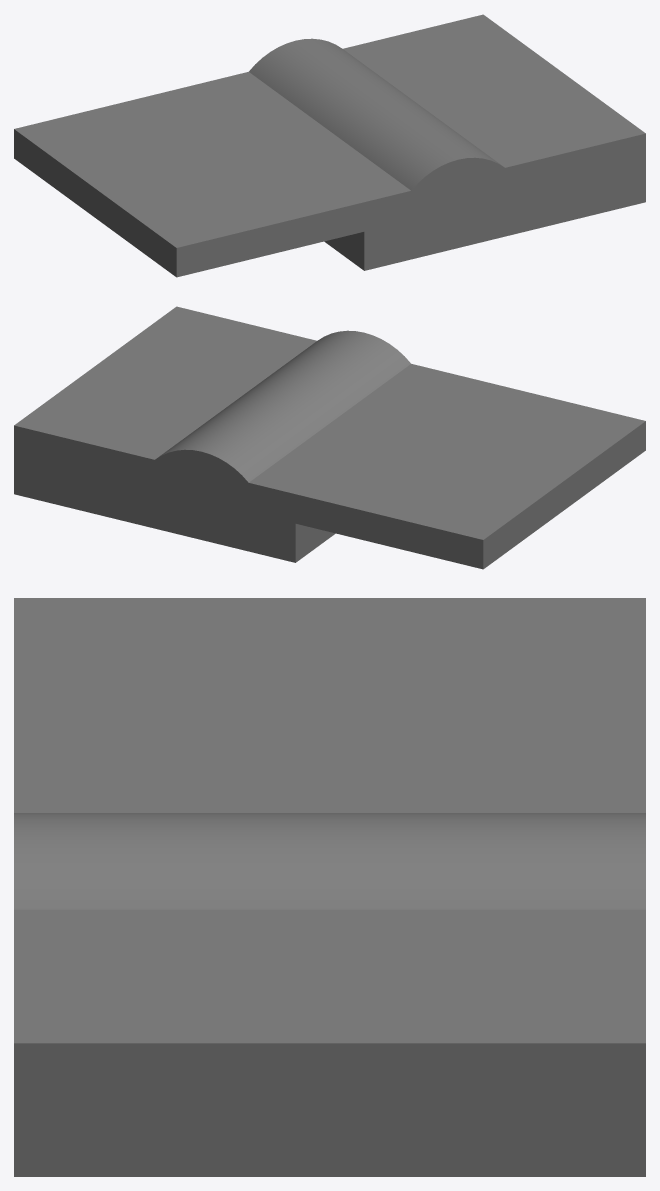
3 views of the same model, one above another, from view 1: azimuth 30°, elevation 25°; view 2: azimuth 150°, elevation 25°; view 3: azimuth 270°, elevation 25° (orthographic). The views are drawn at different scales.
Parts seen in each view (by area): view 1: mesh_id4, mesh_id5; view 2: mesh_id4, mesh_id5; view 3: mesh_id4, mesh_id5.
Part boxes in pixels (left/top/right/bottom): mesh_id4: left=14, top=14, right=645, bottom=277; mesh_id5: left=249, top=38, right=504, bottom=230; mesh_id4: left=14, top=306, right=645, bottom=569; mesh_id5: left=155, top=330, right=410, bottom=522; mesh_id4: left=14, top=598, right=645, bottom=1176; mesh_id5: left=14, top=813, right=645, bottom=909.
Bounding box in the file's own units: 0.512 × 0.0922 × 0.3072.
Materials: 2 (2 with a texture image).
